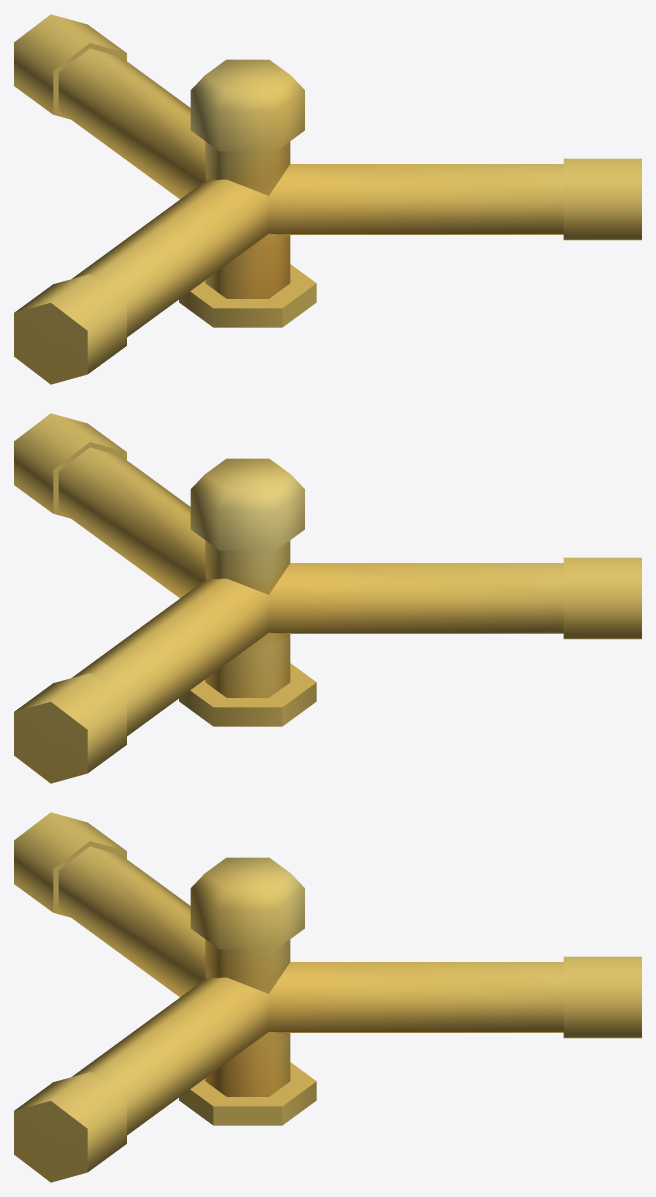
Rendered from squidgame_props_obstacle2_yellow.fbx.
3 renders of one model, top to bottom at view 1: azimuth 30°, elevation 25°; view 2: azimuth 150°, elevation 25°; view 3: azimuth 270°, elevation 25°, orthographic.
Visible parts, largest first — view 1: squidgame_props_obstacle2_yellow; view 2: squidgame_props_obstacle2_yellow; view 3: squidgame_props_obstacle2_yellow.
Part boxes in pixels (x1=…): squidgame_props_obstacle2_yellow: x1=14, y1=14, x2=641, y2=384; squidgame_props_obstacle2_yellow: x1=14, y1=413, x2=641, y2=783; squidgame_props_obstacle2_yellow: x1=14, y1=812, x2=641, y2=1182.
Bounding box in the file's own units: 5.75 × 1.99 × 4.98.
